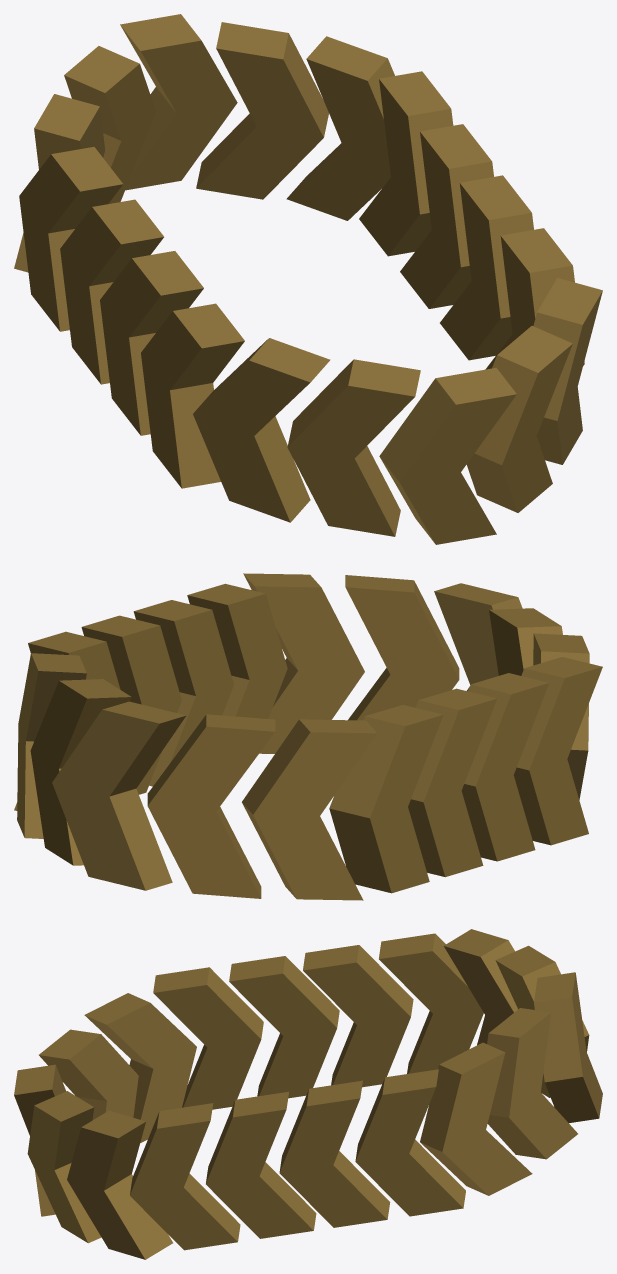
The model's file is WM_BracletThick.fbx.
The picture shows the model from 3 angles, top to bottom: view 1: azimuth 30°, elevation 25°; view 2: azimuth 150°, elevation 25°; view 3: azimuth 270°, elevation 25°; orthographic projection. The views are drawn at different scales.
Visible parts, largest first — view 1: polySurface30; view 2: polySurface30; view 3: polySurface30.
Part boxes in pixels (x1=…): polySurface30: x1=14, y1=14, x2=602, y2=544; polySurface30: x1=14, y1=573, x2=602, y2=900; polySurface30: x1=14, y1=929, x2=602, y2=1259.
Size of the model in its own units: 1.03 by 0.6843 by 1.62.
